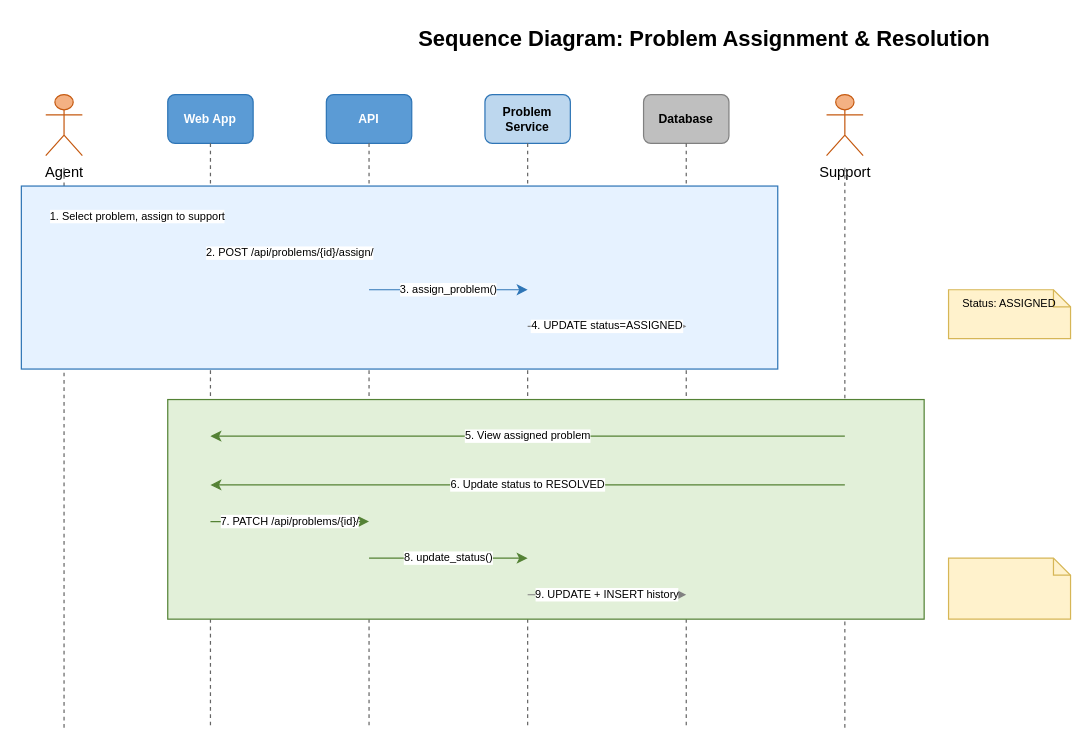
The diagram is 1092 pixels wide and 752 high, and some of its shapes have lost their labels. The centre of each missing label's shape, as x and y in pixels:
"Assignment" goes at pixel 399 277.
"Resolution" goes at pixel 545 508.
"Status: RESOLVED History recorded" goes at pixel 1009 588.
